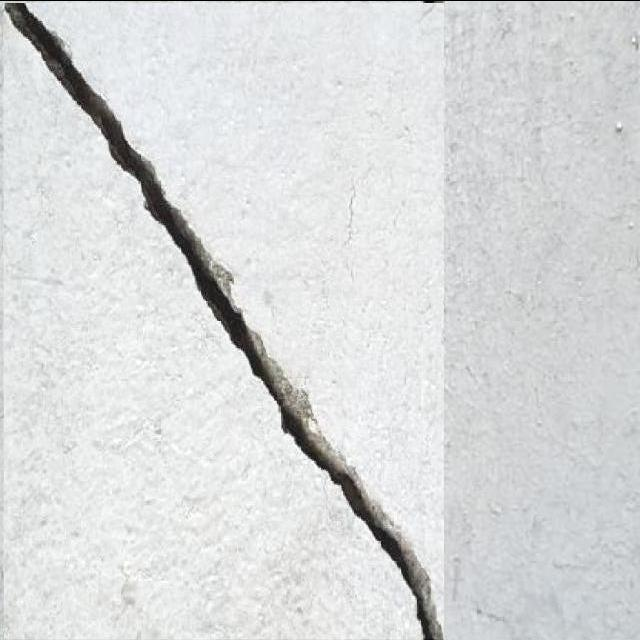Crack: (3, 2, 448, 639)
